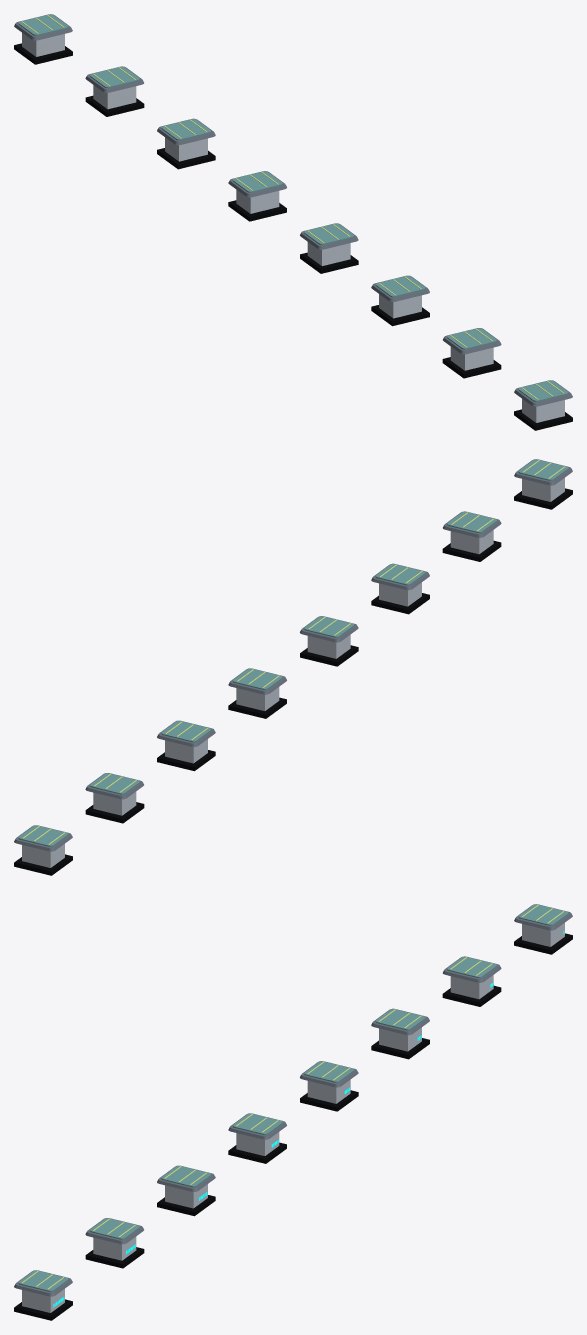
Rendered from tt_pool_start_blocks.glb.
The picture shows the model from 3 angles, top to bottom: view 1: azimuth 30°, elevation 25°; view 2: azimuth 150°, elevation 25°; view 3: azimuth 330°, elevation 25°; orthographic projection.
Visible parts, largest first — view 1: Start_Pedestal, Start_Nonslip, Start_Foot, Start_Cap, Start_TreadInlay; view 2: Start_Pedestal, Start_Nonslip, Start_Foot, Start_Cap, Start_TreadInlay; view 3: Start_Pedestal, Start_Nonslip, Start_Foot, Start_Cap, Start_TreadInlay.
Boxes of the visible parts, <box> form: Start_Pedestal: <box>22,33,564,422</box>; Start_Nonslip: <box>18,14,568,401</box>; Start_Foot: <box>14,43,572,430</box>; Start_Cap: <box>14,14,572,406</box>; Start_TreadInlay: <box>21,15,564,399</box>; Start_Pedestal: <box>22,478,564,867</box>; Start_Nonslip: <box>18,459,568,846</box>; Start_Foot: <box>14,488,572,875</box>; Start_Cap: <box>14,459,572,851</box>; Start_TreadInlay: <box>22,460,565,844</box>; Start_Pedestal: <box>22,923,564,1312</box>; Start_Nonslip: <box>18,904,568,1291</box>; Start_Foot: <box>14,933,572,1320</box>; Start_Cap: <box>14,904,572,1296</box>; Start_TreadInlay: <box>21,905,564,1289</box>.
Size of what is drawn, in the model's own units: 0.82 by 0.546 by 18.26.
Materials: 6 (3 with a texture image).
